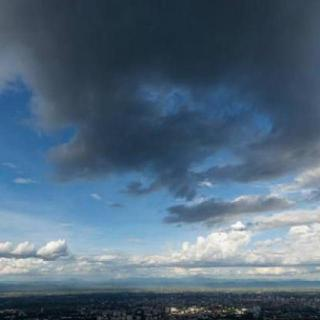Altostratus: (0, 3, 320, 275)
